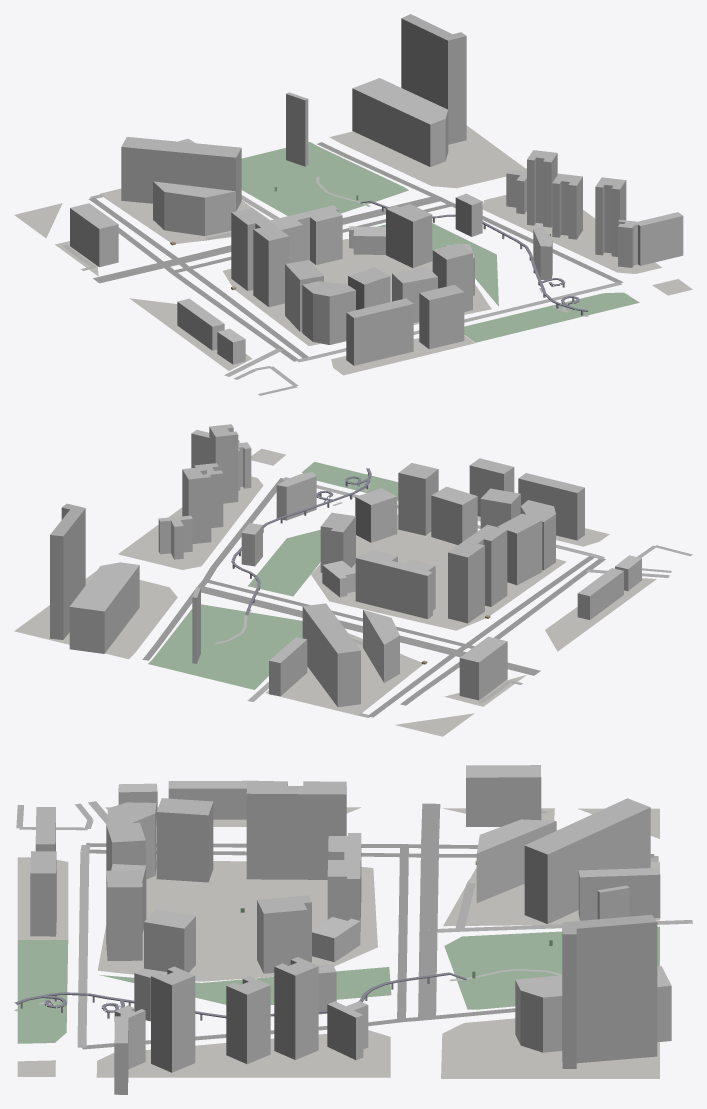
3 views of the same model, one above another, from view 1: azimuth 30°, elevation 25°; view 2: azimuth 150°, elevation 25°; view 3: azimuth 270°, elevation 25° (orthographic). The views are drawn at different scales.
Bounding box in the file's own units: 542 × 117 × 529.
